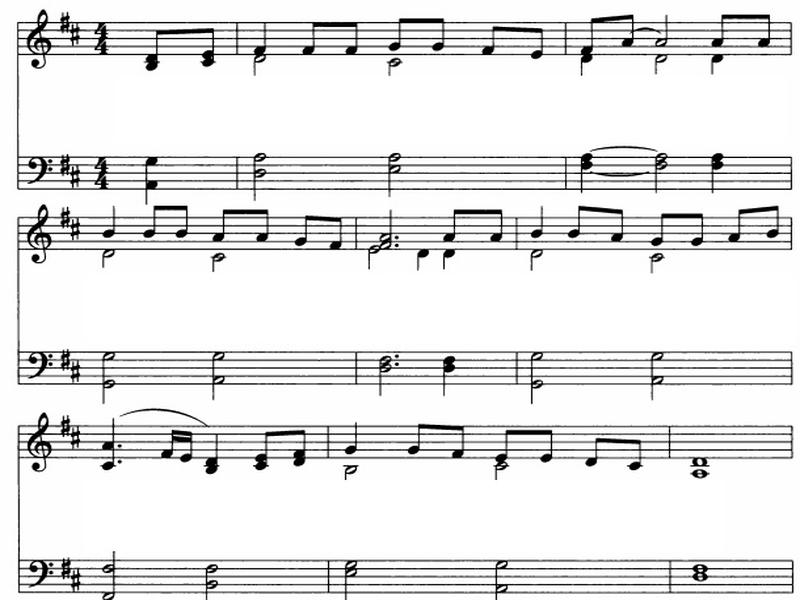B: (202, 345, 239, 406), (91, 344, 128, 398), (525, 341, 555, 407), (251, 144, 285, 197), (379, 139, 407, 199), (96, 546, 122, 600), (646, 351, 667, 414), (484, 556, 514, 600), (369, 347, 394, 396), (199, 560, 229, 600), (187, 250, 232, 274), (655, 11, 682, 47), (340, 552, 359, 600), (202, 342, 230, 372), (652, 151, 671, 191), (643, 343, 670, 371), (87, 249, 121, 271), (646, 371, 670, 401), (335, 464, 364, 487), (94, 348, 123, 371), (526, 374, 544, 409), (380, 206, 394, 250), (487, 464, 515, 486), (650, 52, 667, 88), (245, 55, 267, 82), (209, 373, 230, 401), (526, 249, 548, 274), (527, 343, 544, 374), (99, 377, 120, 400), (647, 253, 670, 274), (383, 54, 405, 74), (363, 245, 380, 267)
C: (468, 17, 513, 65), (292, 11, 327, 60), (288, 202, 325, 248), (433, 196, 467, 244), (478, 197, 509, 247), (142, 18, 169, 75), (517, 21, 551, 65), (197, 13, 221, 74), (702, 1, 731, 48), (285, 423, 314, 470), (399, 420, 434, 458), (575, 10, 605, 54), (749, 2, 777, 49), (340, 14, 369, 59), (247, 201, 276, 246), (252, 424, 278, 474), (563, 203, 595, 242), (529, 426, 561, 464), (626, 432, 653, 477), (683, 210, 712, 251), (722, 204, 751, 245), (494, 421, 524, 460), (646, 206, 673, 249), (205, 203, 235, 241), (584, 429, 611, 471), (387, 10, 412, 52), (423, 10, 448, 52), (136, 200, 162, 239), (447, 418, 469, 464), (171, 200, 195, 240), (323, 214, 347, 254), (606, 199, 627, 244), (616, 9, 637, 52), (763, 201, 782, 241)
CF: (20, 146, 57, 188), (23, 343, 54, 385), (27, 549, 55, 595)
CS: (23, 198, 53, 270), (21, 5, 53, 72), (23, 419, 57, 472)
N: (697, 131, 733, 197), (430, 348, 472, 395), (200, 431, 236, 479), (143, 147, 172, 204), (570, 144, 601, 196), (524, 201, 557, 241), (97, 414, 117, 474), (341, 418, 369, 456), (247, 16, 274, 52), (403, 245, 433, 275), (100, 204, 122, 242), (438, 245, 463, 267), (573, 56, 595, 74), (707, 54, 727, 73)
P: (115, 458, 125, 468), (114, 445, 126, 451)
R: (689, 454, 713, 469), (690, 574, 713, 584), (693, 470, 713, 481), (695, 564, 708, 573)
SC: (159, 424, 181, 462), (180, 427, 197, 463)
SOS: (68, 22, 86, 56), (70, 424, 88, 458), (51, 8, 71, 34), (51, 414, 70, 435), (57, 203, 74, 225), (69, 570, 85, 593), (69, 214, 81, 244), (56, 556, 70, 580), (56, 153, 71, 174), (57, 347, 71, 369), (70, 165, 81, 189), (70, 360, 77, 384)
